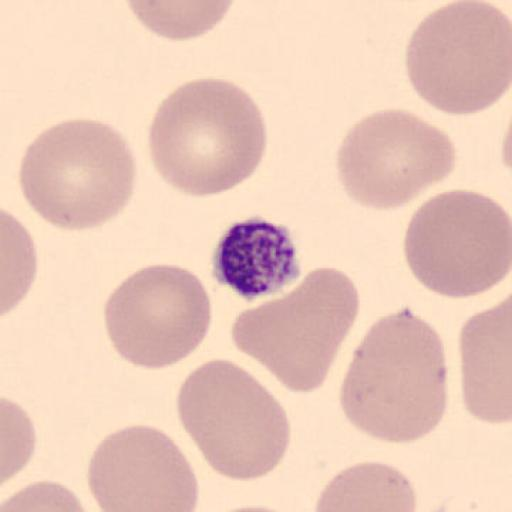Platelet: (208, 214, 304, 302)
RBC: (228, 265, 361, 397), (337, 306, 449, 446), (146, 76, 269, 198), (176, 356, 292, 483), (16, 116, 139, 232), (334, 106, 457, 212), (404, 0, 512, 117), (402, 189, 512, 299), (103, 262, 214, 370), (86, 423, 200, 512), (458, 296, 512, 426), (312, 458, 419, 512), (123, 0, 237, 42), (2, 208, 38, 318), (1, 394, 37, 486), (1, 478, 94, 512), (210, 503, 307, 512)
